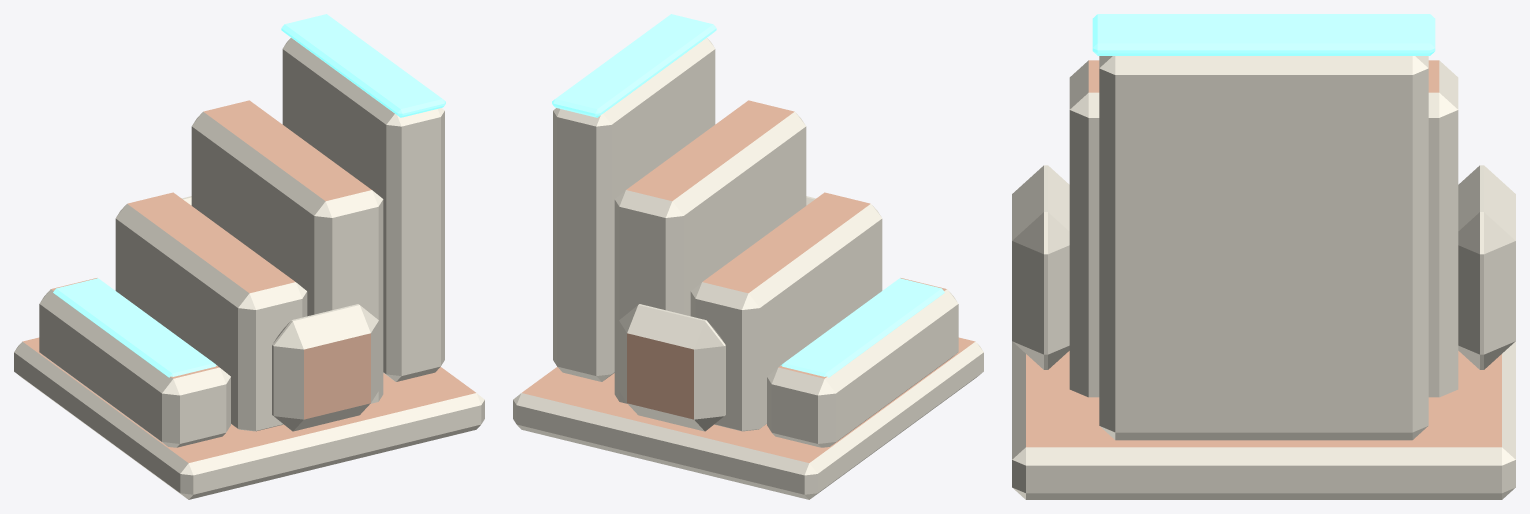
Rendered from R4X_ModuleAmplifier_LOD1.fbx.
The picture shows the model from 3 angles, left to right: view 1: azimuth 30°, elevation 25°; view 2: azimuth 150°, elevation 25°; view 3: azimuth 270°, elevation 25°; orthographic projection. The views are drawn at different scales.
Parts seen in each view (by area): view 1: R4X_ModuleAmplifier_LOD1; view 2: R4X_ModuleAmplifier_LOD1; view 3: R4X_ModuleAmplifier_LOD1.
Part boxes in pixels (x1=…): R4X_ModuleAmplifier_LOD1: x1=14, y1=14, x2=484, y2=499; R4X_ModuleAmplifier_LOD1: x1=513, y1=14, x2=983, y2=499; R4X_ModuleAmplifier_LOD1: x1=1012, y1=14, x2=1515, y2=499.
Bounding box in the file's own units: 0.52 × 0.5131 × 0.52.
